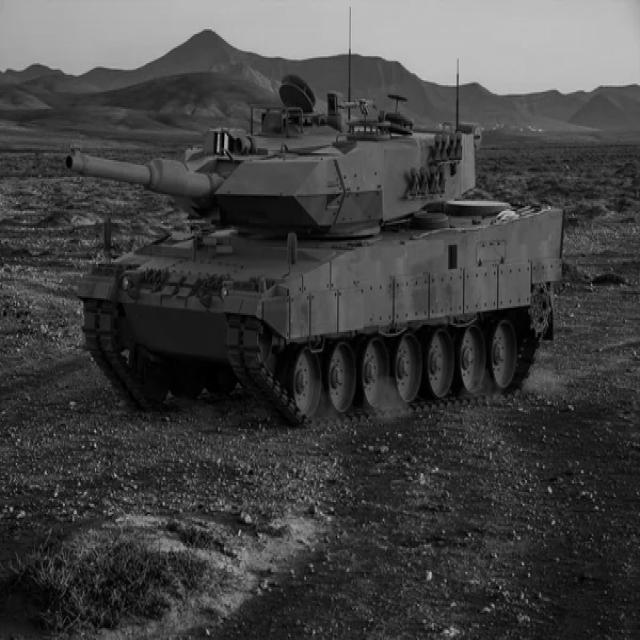Tank: (44, 65, 577, 432)
